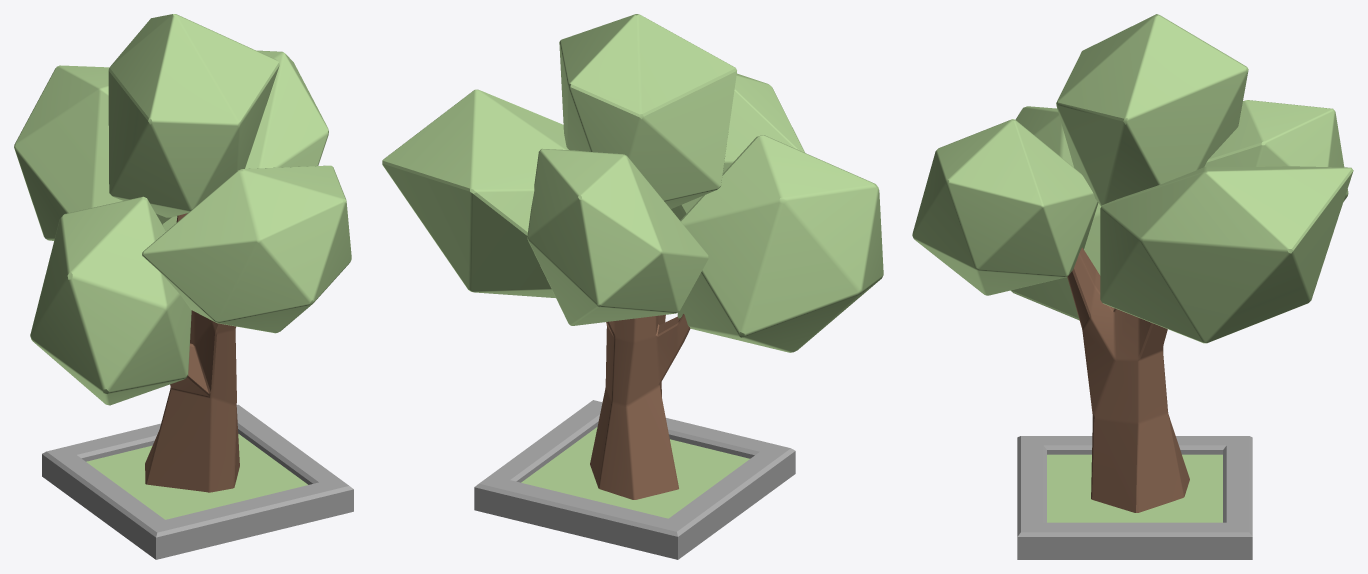
The model's file is TreeNew2.fbx.
The picture shows the model from 3 angles, left to right: view 1: azimuth 30°, elevation 25°; view 2: azimuth 150°, elevation 25°; view 3: azimuth 270°, elevation 25°; orthographic projection. The views are drawn at different scales.
Parts seen in each view (by area): view 1: pCube2; view 2: pCube2; view 3: pCube2.
Part boxes in pixels (box(x1,y1,x2,y2)): pCube2: box(14, 14, 353, 559); pCube2: box(382, 14, 883, 559); pCube2: box(912, 14, 1353, 559).
Bounding box in the file's own units: 4.62 × 5.75 × 4.71.
